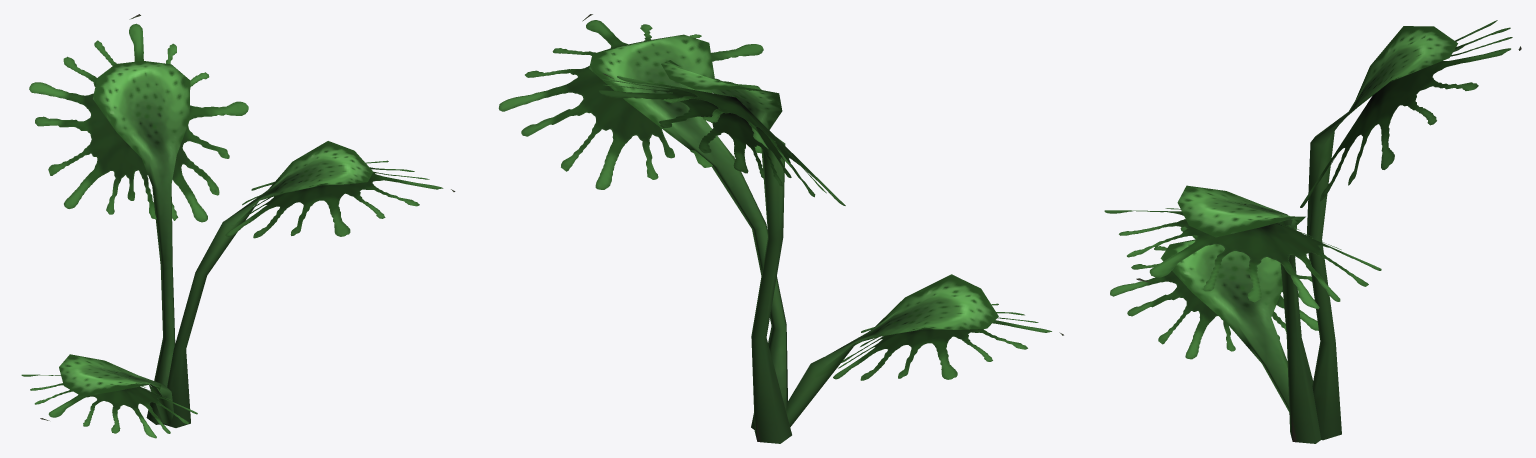
Rendered from herb_kihokki.FBX.
3 views of the same model, side by side, from view 1: azimuth 30°, elevation 25°; view 2: azimuth 150°, elevation 25°; view 3: azimuth 270°, elevation 25° (orthographic). The views are drawn at different scales.
Parts seen in each view (by area): view 1: kihokki; view 2: kihokki; view 3: kihokki.
Part boxes in pixels (left/top/right/bottom): kihokki: left=21, top=14, right=455, bottom=438; kihokki: left=498, top=14, right=1063, bottom=443; kihokki: left=1104, top=20, right=1521, bottom=443.
Bounding box in the file's own units: 79.63 × 62.14 × 57.85.
